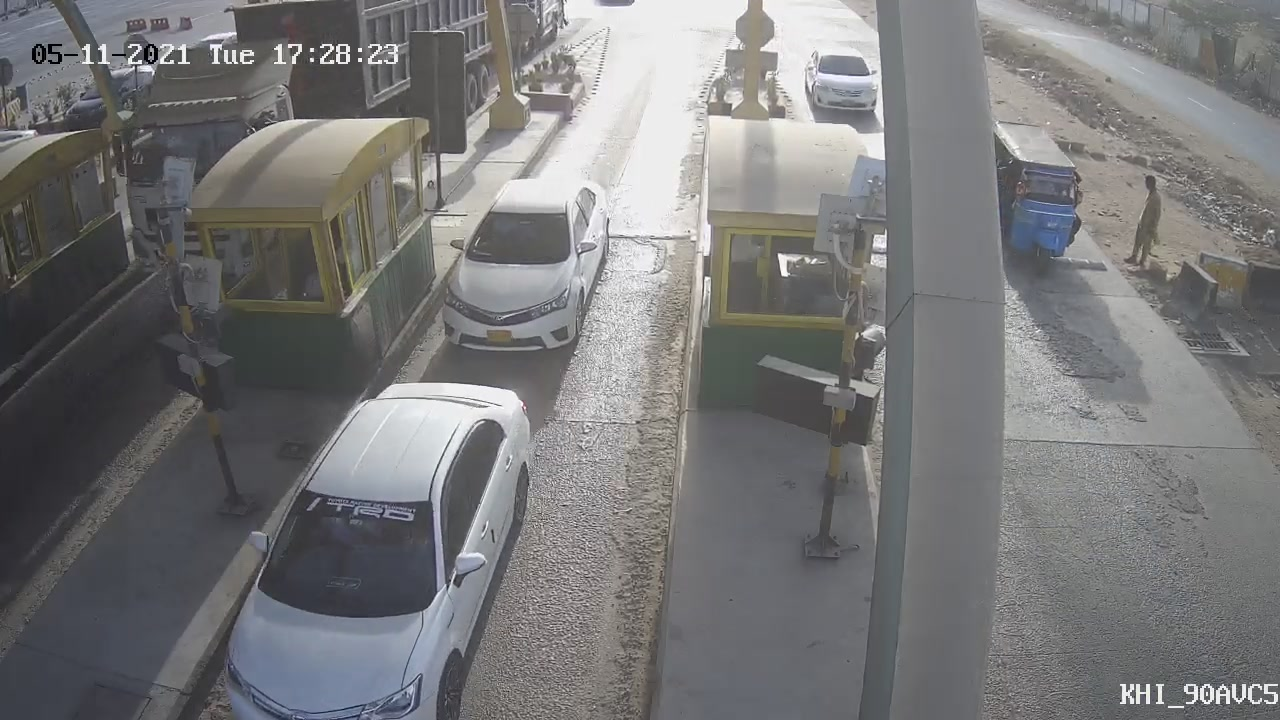F1: (421, 154, 630, 373)
